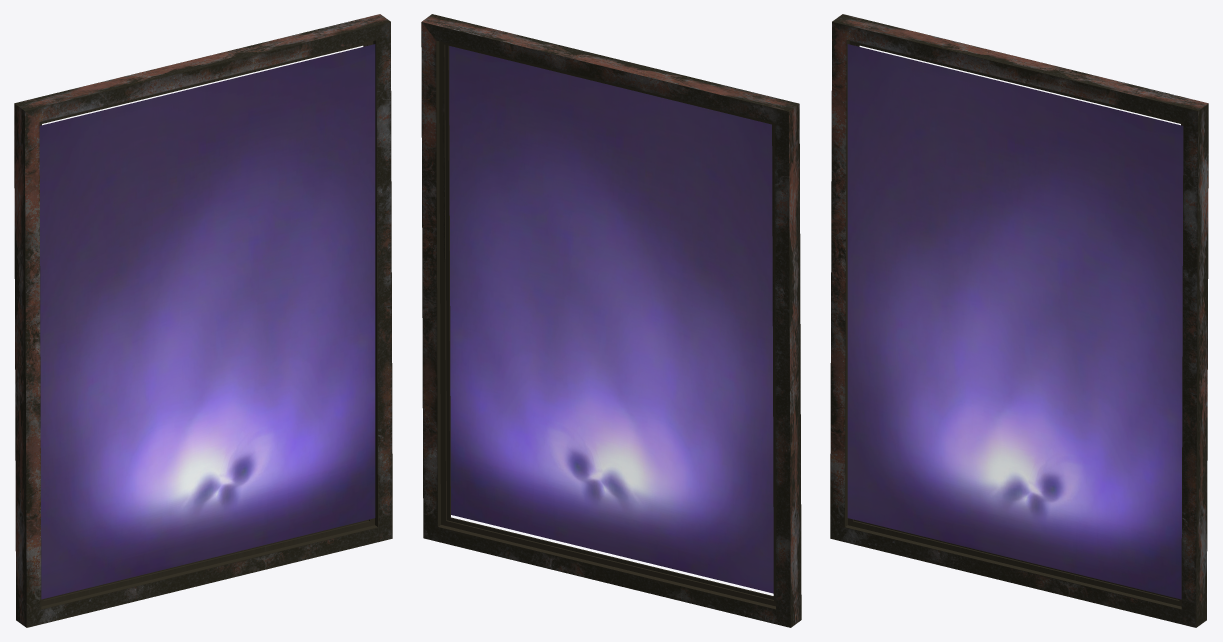
3 renders of one model, left to right at view 1: azimuth 30°, elevation 25°; view 2: azimuth 150°, elevation 25°; view 3: azimuth 330°, elevation 25°, orthographic.
Parts seen in each view (by area): view 1: Plane, f; view 2: Plane, f; view 3: Plane, f.
Part boxes in pixels (bbox=[...]): Plane: bbox=[39, 44, 375, 599]; f: bbox=[14, 14, 392, 627]; Plane: bbox=[449, 46, 773, 593]; f: bbox=[421, 14, 801, 627]; Plane: bbox=[847, 44, 1183, 599]; f: bbox=[830, 14, 1208, 627].
Size of the model in its own units: 0.5737 by 0.7724 by 0.0341.
2 materials, 2 textured.
